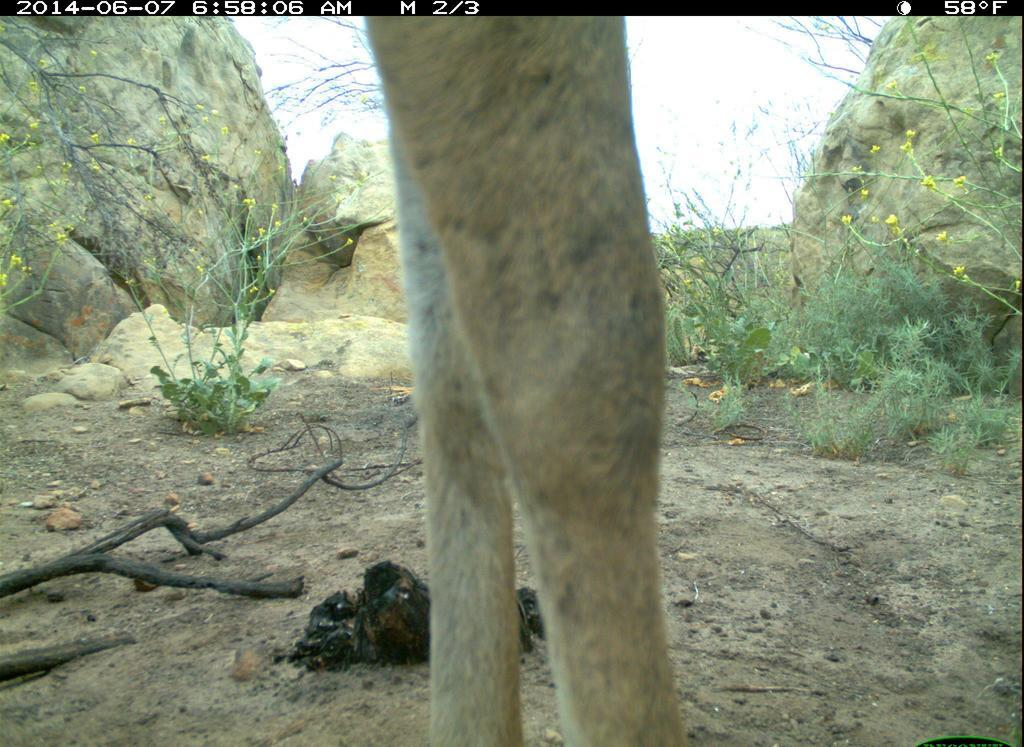deer: (338, 18, 717, 747)
